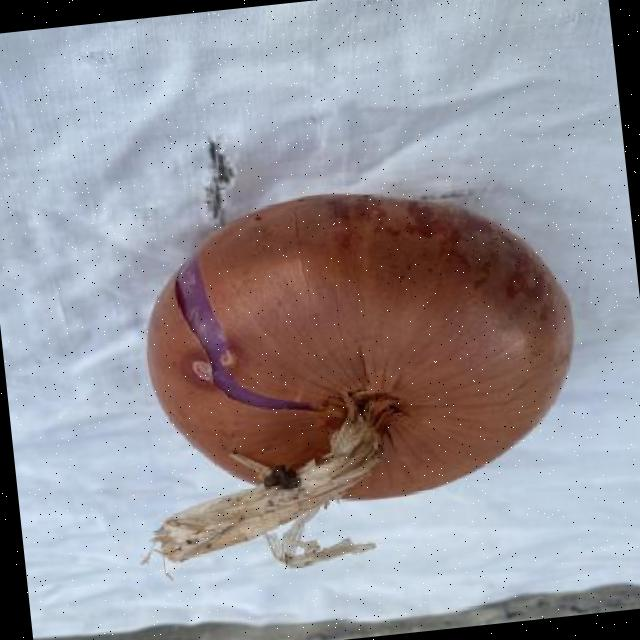Onion: (143, 193, 571, 567)
